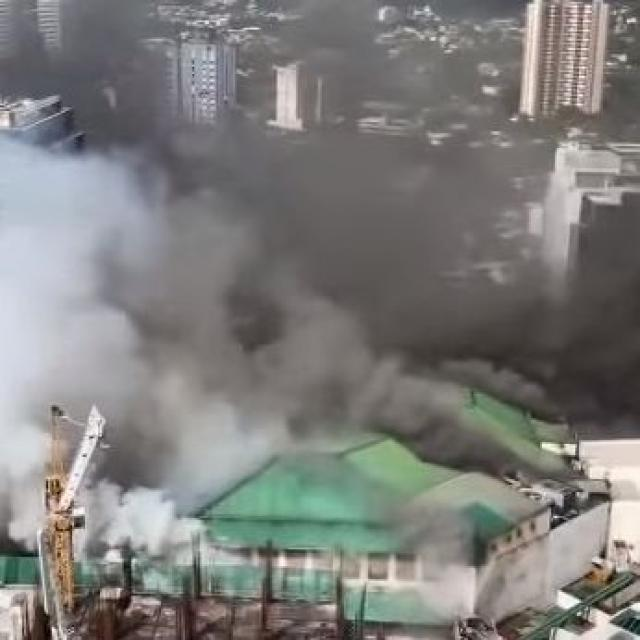Smoke: (0, 159, 175, 533), (185, 167, 358, 451)
